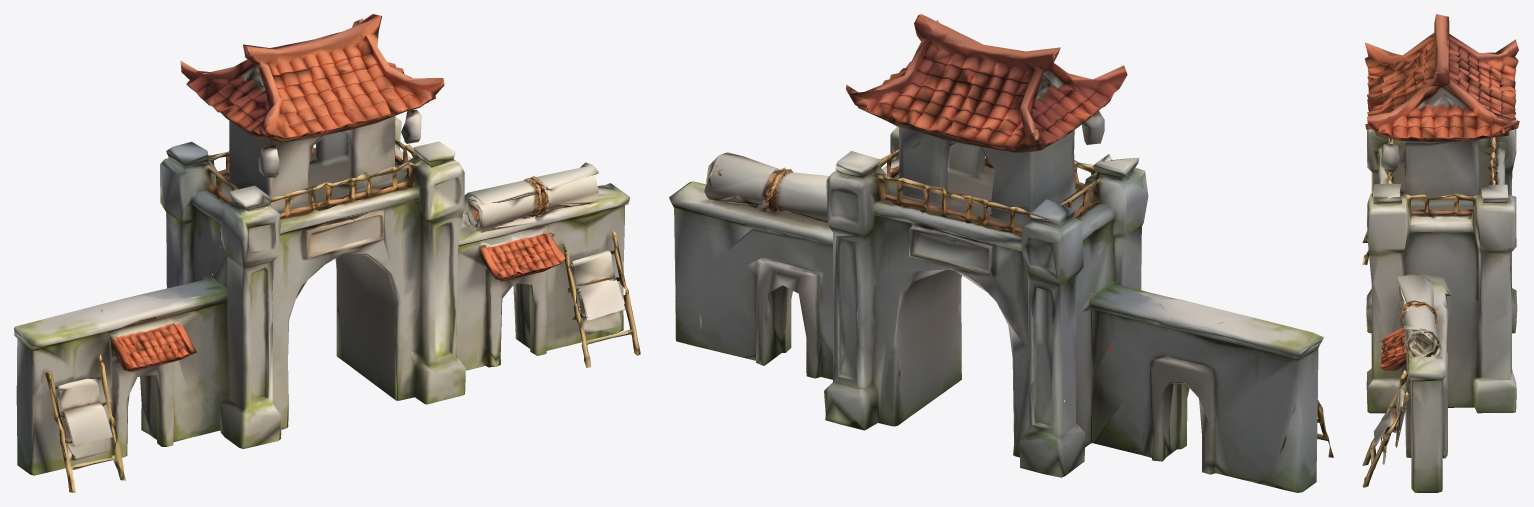
File: cong-lang-giay.3e153a98.glb
3 renders of one model, left to right at view 1: azimuth 30°, elevation 25°; view 2: azimuth 150°, elevation 25°; view 3: azimuth 270°, elevation 25°, orthographic. The views are drawn at different scales.
Visible parts, largest first — view 1: tripo_node_a24edd46-532c-49d4-b4dc-27e4c0dc1a52; view 2: tripo_node_a24edd46-532c-49d4-b4dc-27e4c0dc1a52; view 3: tripo_node_a24edd46-532c-49d4-b4dc-27e4c0dc1a52.
Part boxes in pixels (left/top/right/bottom): tripo_node_a24edd46-532c-49d4-b4dc-27e4c0dc1a52: left=14, top=14, right=640, bottom=492; tripo_node_a24edd46-532c-49d4-b4dc-27e4c0dc1a52: left=669, top=14, right=1333, bottom=492; tripo_node_a24edd46-532c-49d4-b4dc-27e4c0dc1a52: left=1362, top=14, right=1519, bottom=492.
Size of the model in its own units: 0.9775 by 0.5652 by 0.2506.
Materials: 1 (1 with a texture image).
